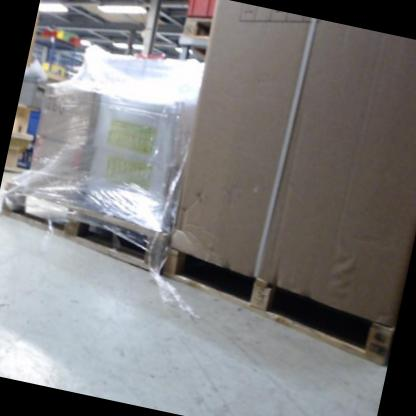pallet: (151, 244, 402, 369), (0, 179, 174, 275), (180, 12, 214, 41)
